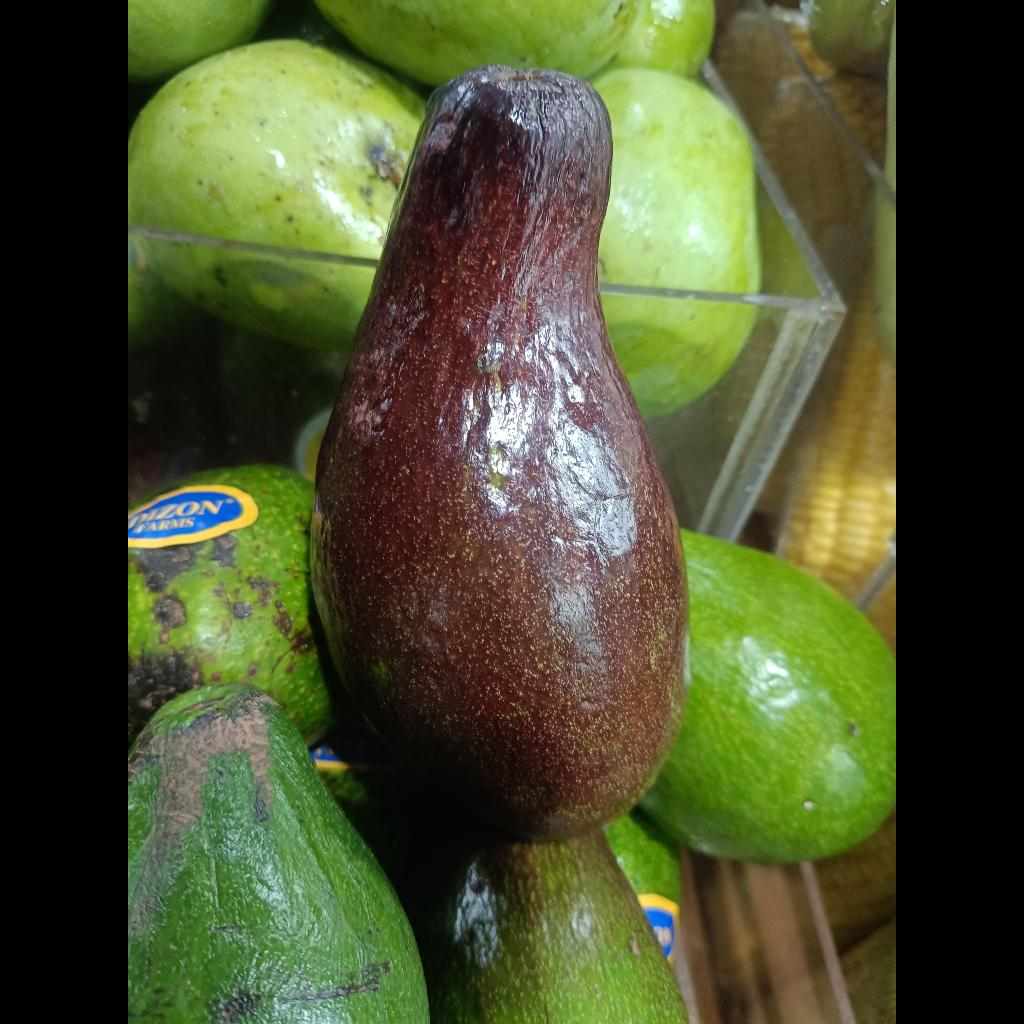anthracnose: (311, 66, 689, 838), (128, 683, 429, 1024)
healthy: (641, 530, 896, 863)
scab: (128, 464, 332, 739)
